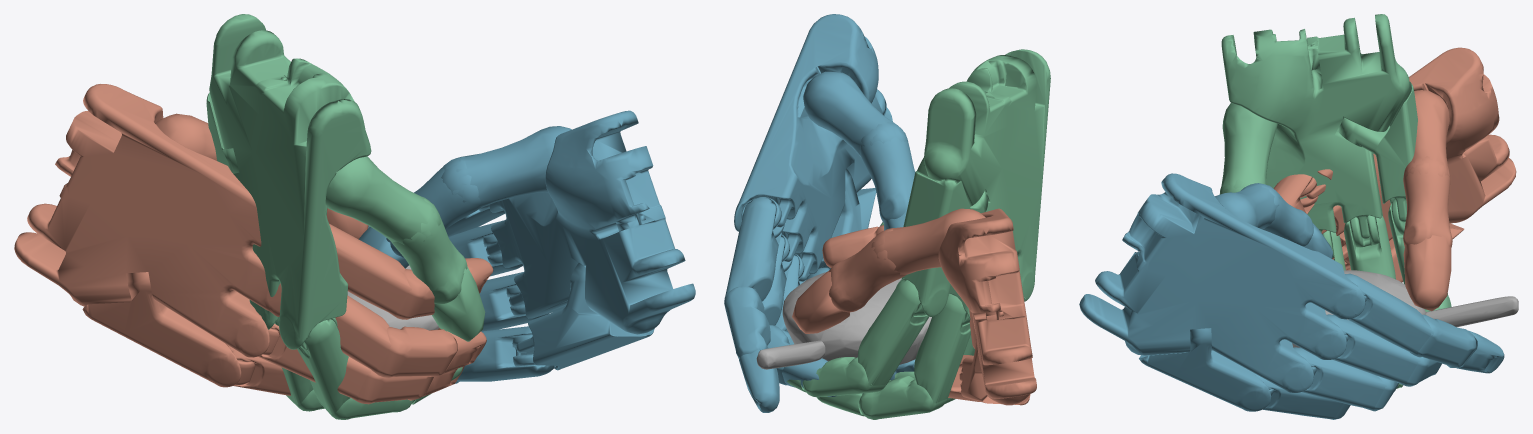
The model's file is novel_ddg-gd_pan_poisson_017_grasp.glb.
The picture shows the model from 3 angles, left to right: view 1: azimuth 30°, elevation 25°; view 2: azimuth 150°, elevation 25°; view 3: azimuth 270°, elevation 25°; orthographic projection. The views are drawn at different scales.
Bounding box in the file's own units: 0.2007 × 0.1696 × 0.2051.
